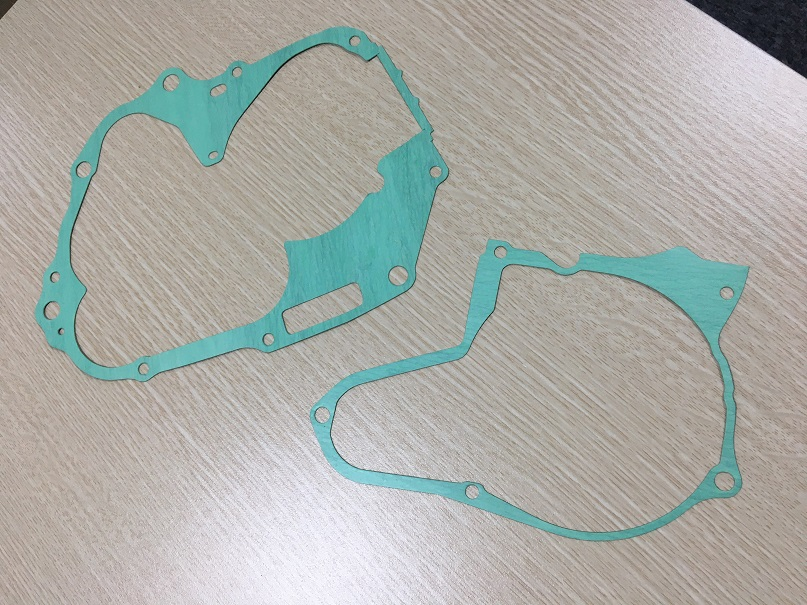type1: (307, 233, 758, 544)
type3: (36, 26, 452, 387)
